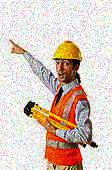helmet: (52, 40, 82, 82)
